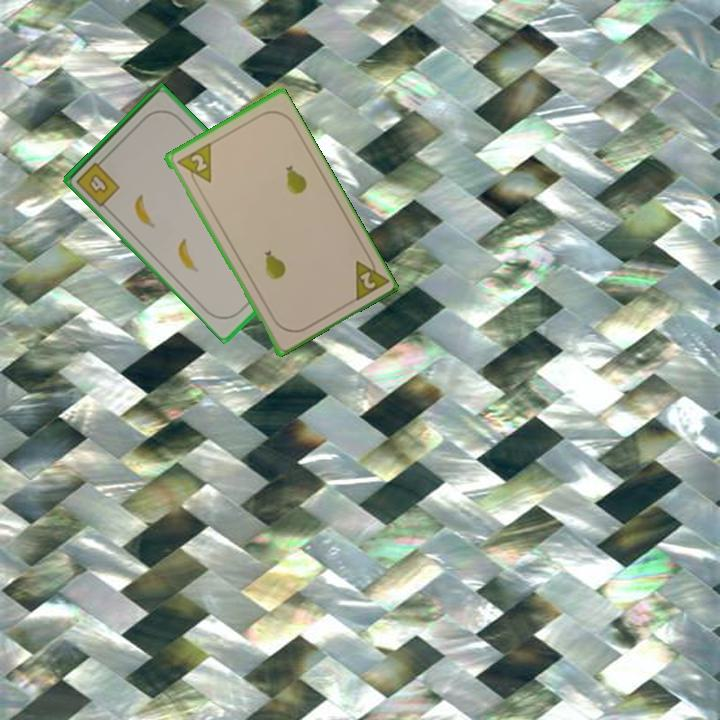2p: (349, 250, 390, 305), (187, 150, 210, 174)
4b: (73, 154, 123, 210)
